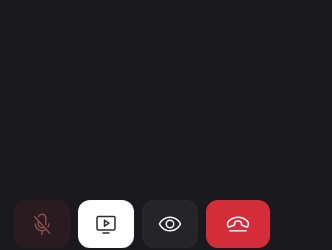
Test: a barra flutuante › o menu de quem está no ar › Esc fecha e devolve o foco ao botão; as setas andam pelos itens
This screenshot has width=332, height=250.
(page scrolled)
Click the button named "Sua tela está no ar — opções". click: [106, 224]
box: [78, 200, 134, 248]
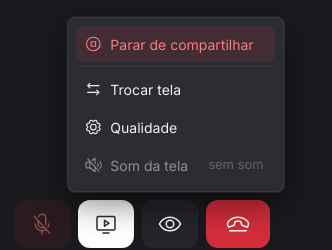
Press Arrowdown
Press Arrowup Arrowup
Press Escape
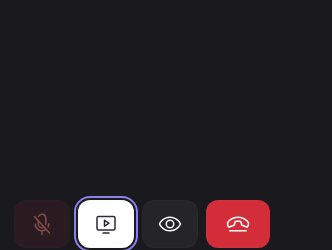
Expected: the menu is gone
